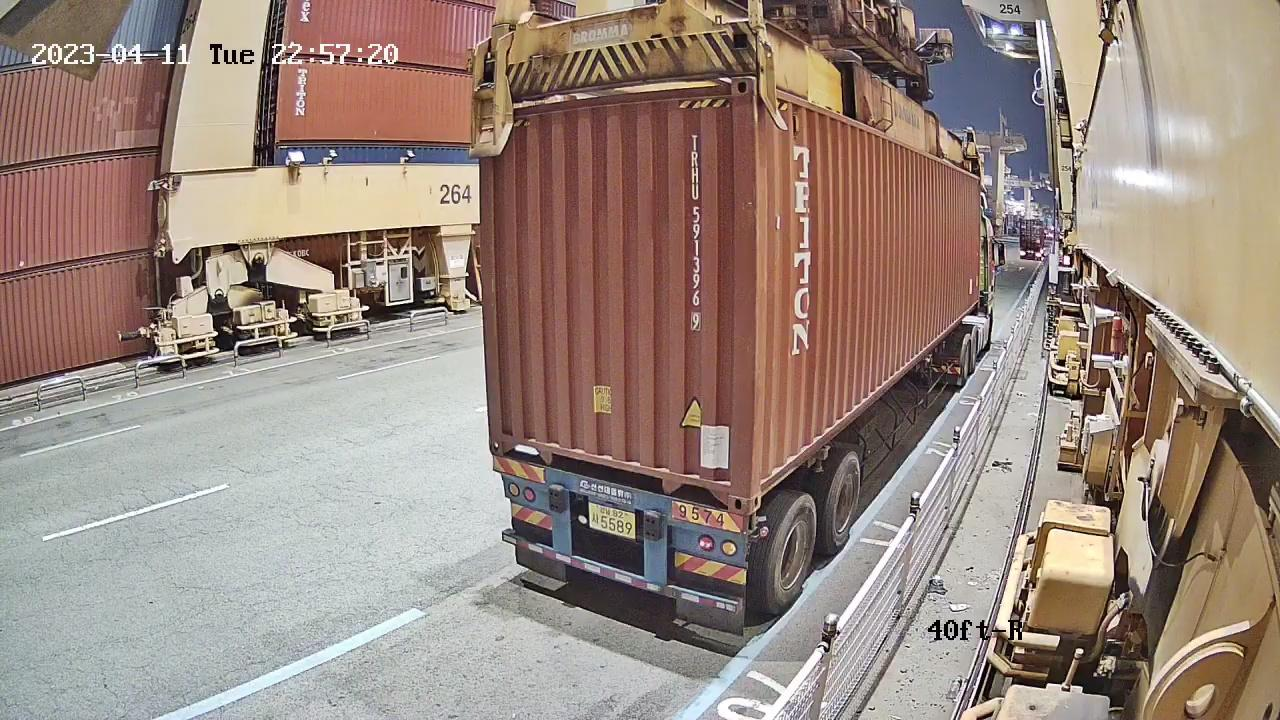Chassis: (492, 458, 749, 570)
Cone: (748, 504, 767, 543)
Container: (488, 419, 753, 519)
Hole_L: (753, 454, 778, 513), (488, 418, 521, 461)
Hole_R: (710, 460, 753, 514)
Tire: (765, 495, 817, 615), (827, 453, 862, 551)
